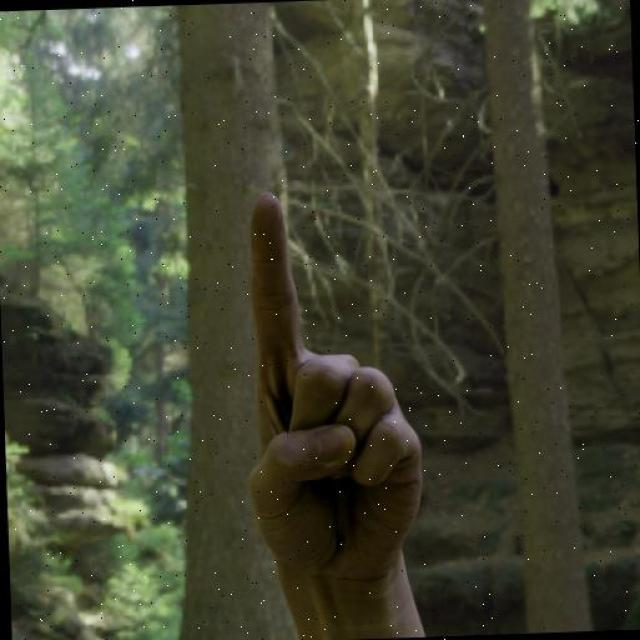Z: (232, 183, 432, 588)
